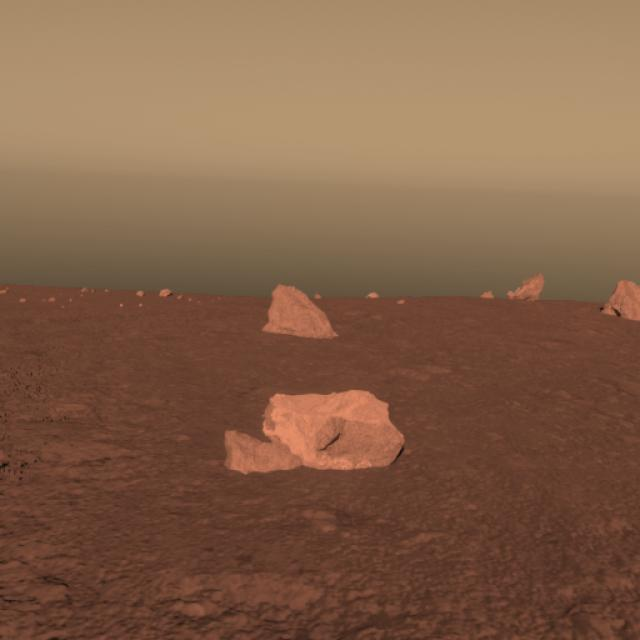rock: (268, 380, 410, 474), (261, 278, 344, 342), (218, 427, 296, 478), (598, 276, 640, 326)
